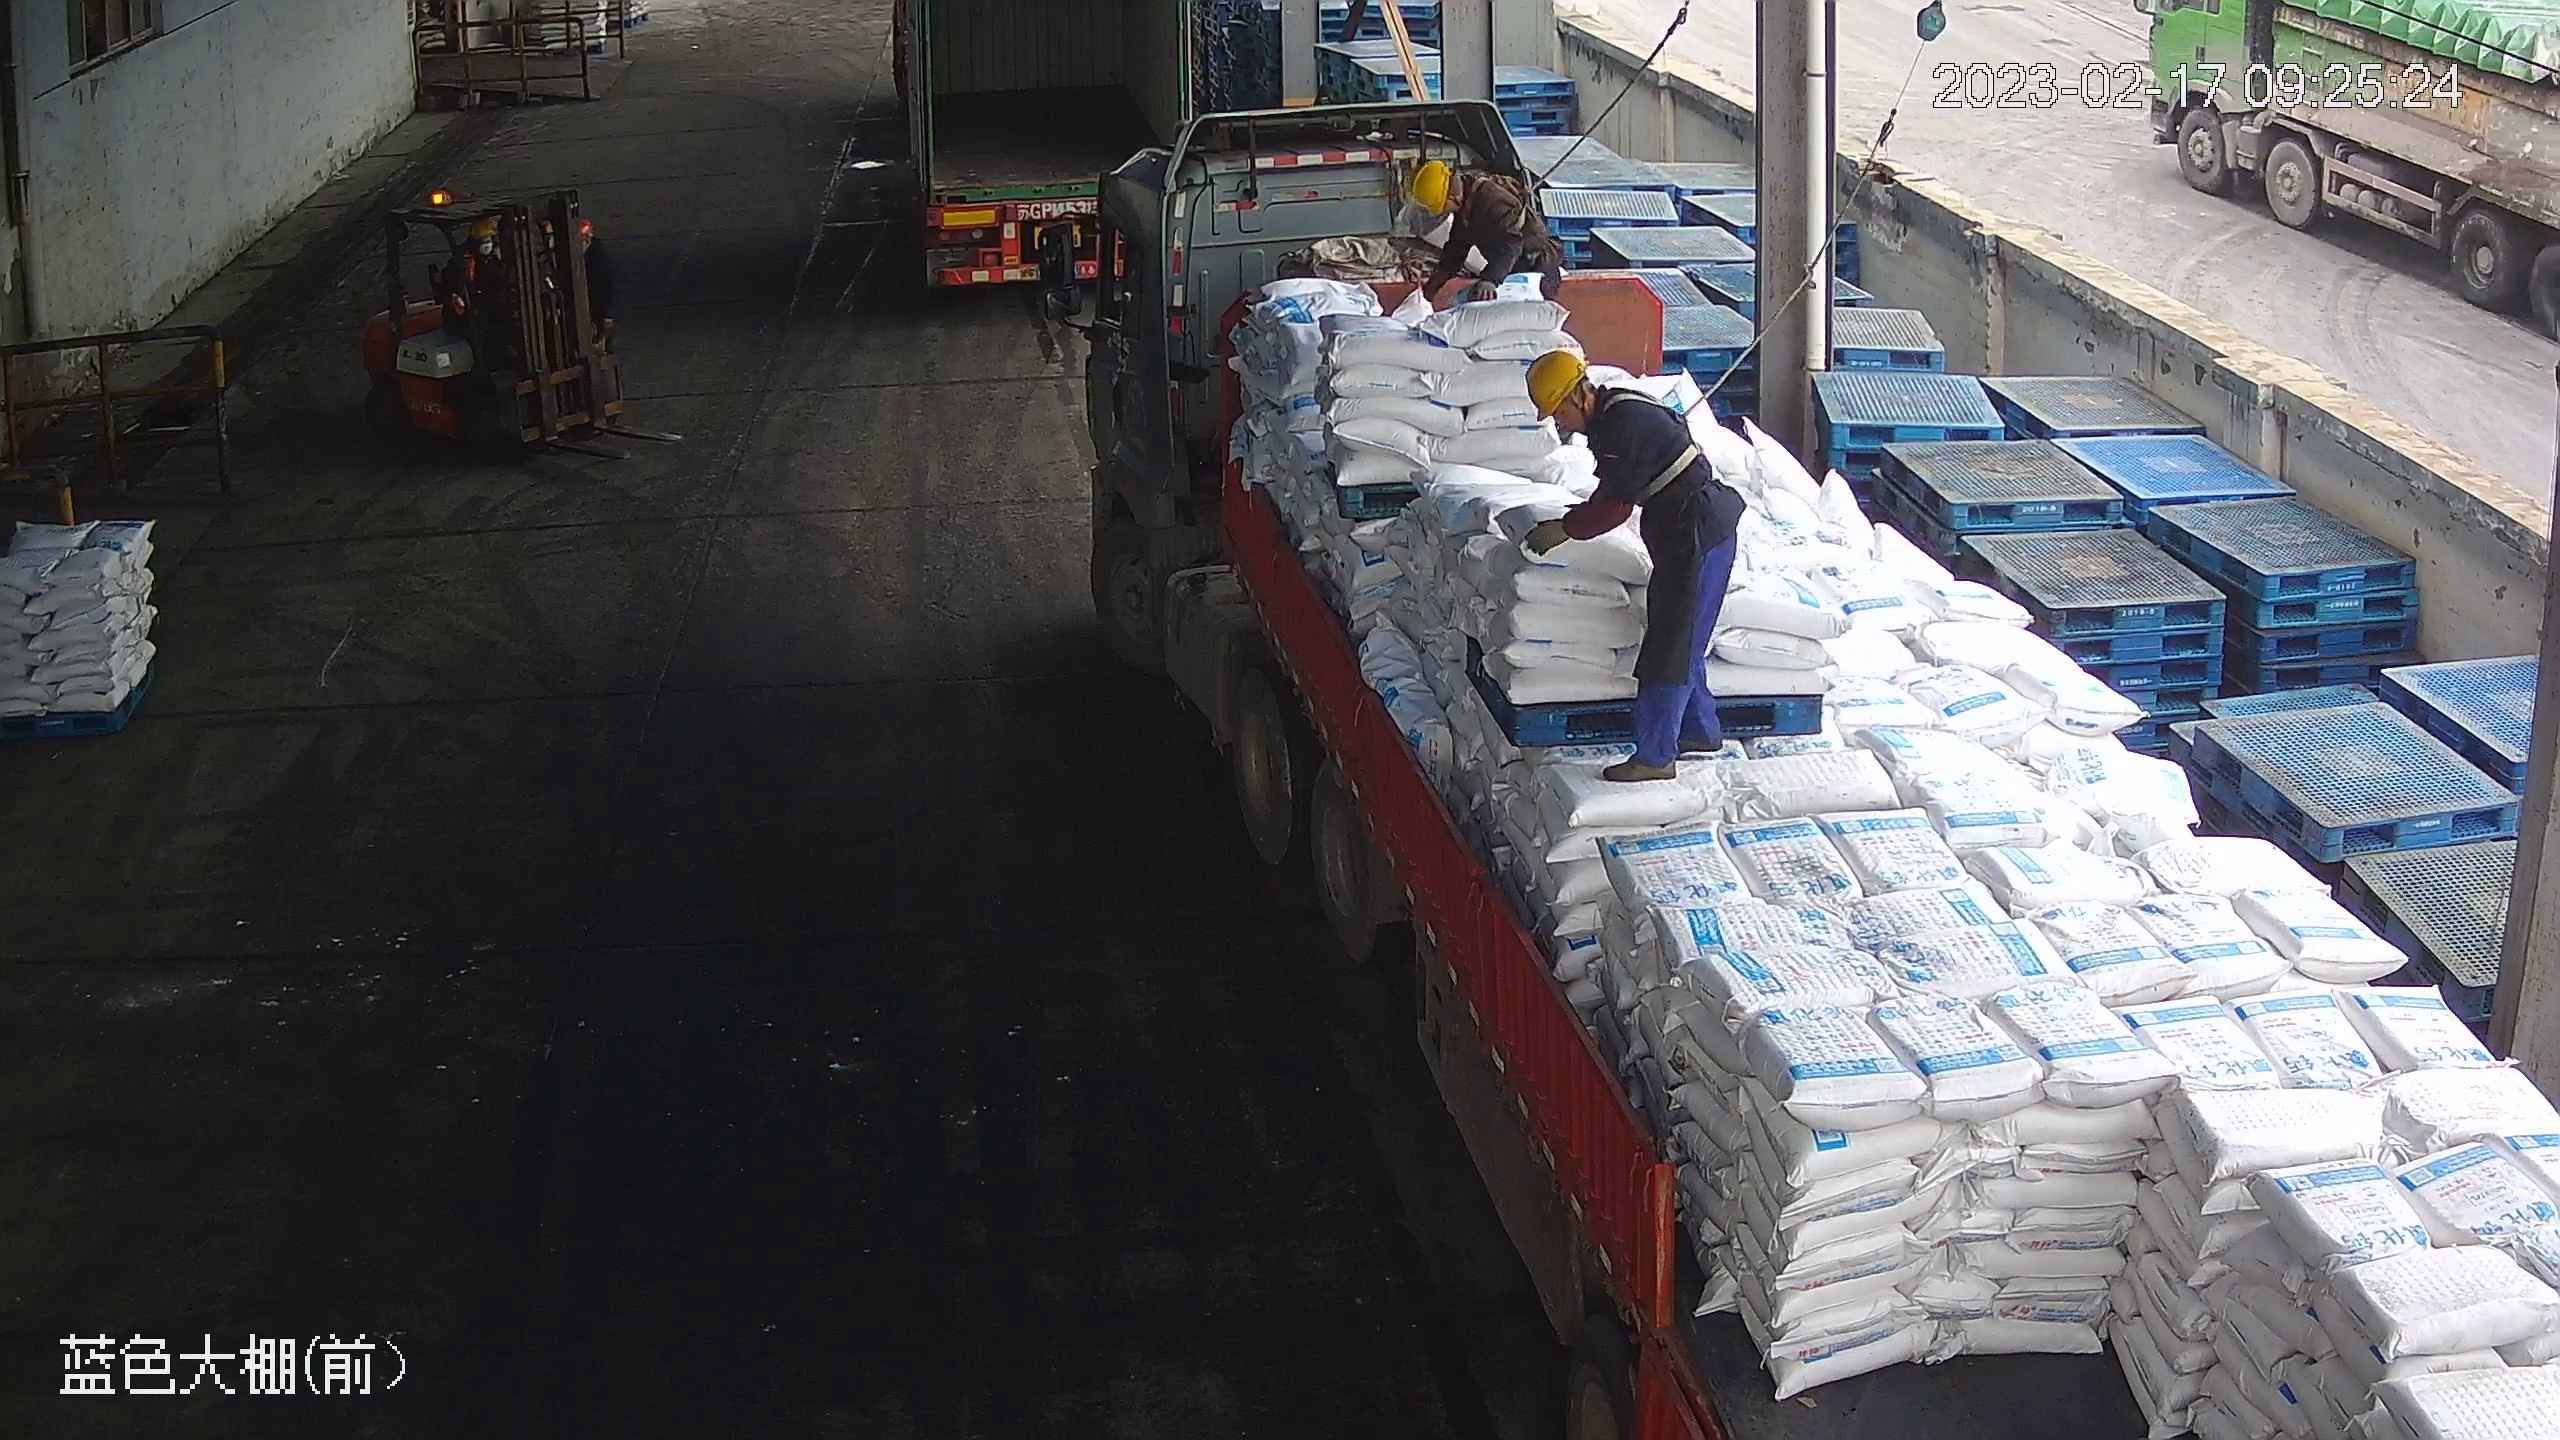belt: (1597, 376, 1716, 495), (1443, 155, 1544, 258), (1463, 162, 1533, 230)
head: (1524, 348, 1671, 457), (1409, 156, 1513, 233)
helmet: (1523, 347, 1588, 420), (1408, 156, 1453, 211)
people: (1521, 346, 1748, 785), (1404, 156, 1561, 306)
truck: (1038, 160, 2556, 1438), (885, 1, 1197, 290)
